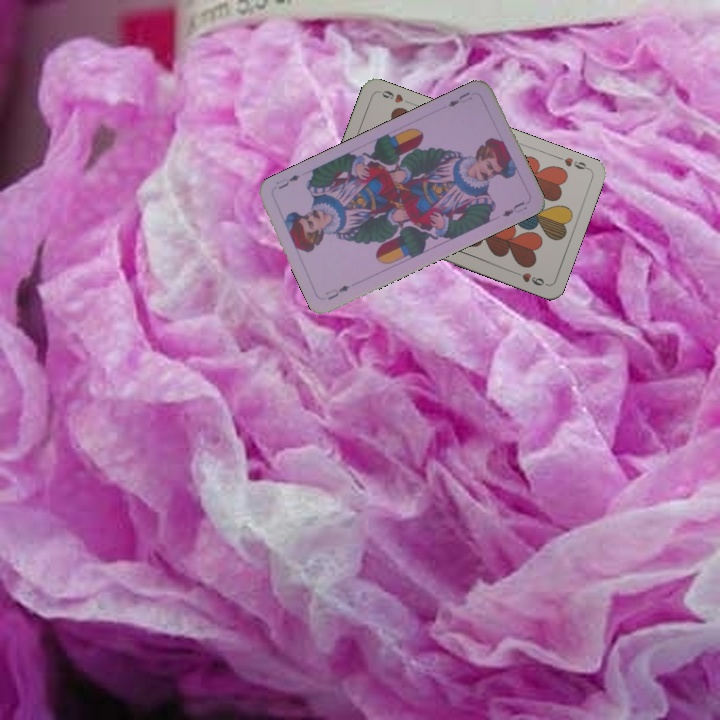EU: (321, 281, 352, 303), (444, 88, 474, 110)
H9: (553, 152, 592, 172)
